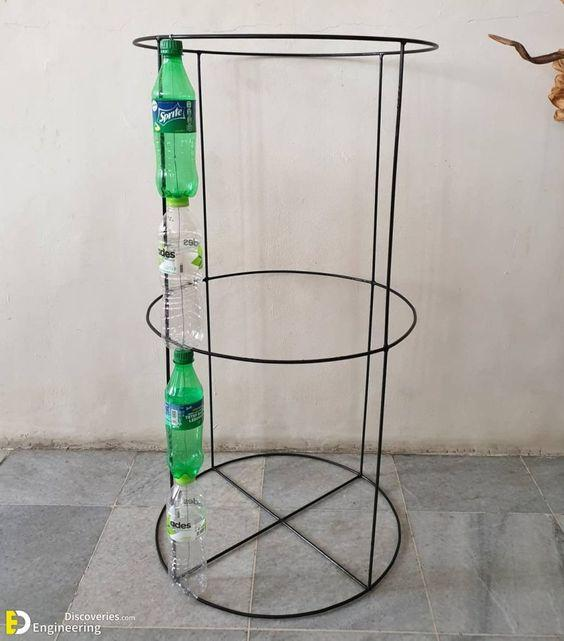HDPE: (157, 38, 184, 58), (171, 347, 195, 366), (165, 195, 190, 208), (174, 474, 196, 485)
PETE: (149, 54, 200, 199), (156, 207, 205, 350), (165, 482, 209, 602), (162, 363, 206, 480)
